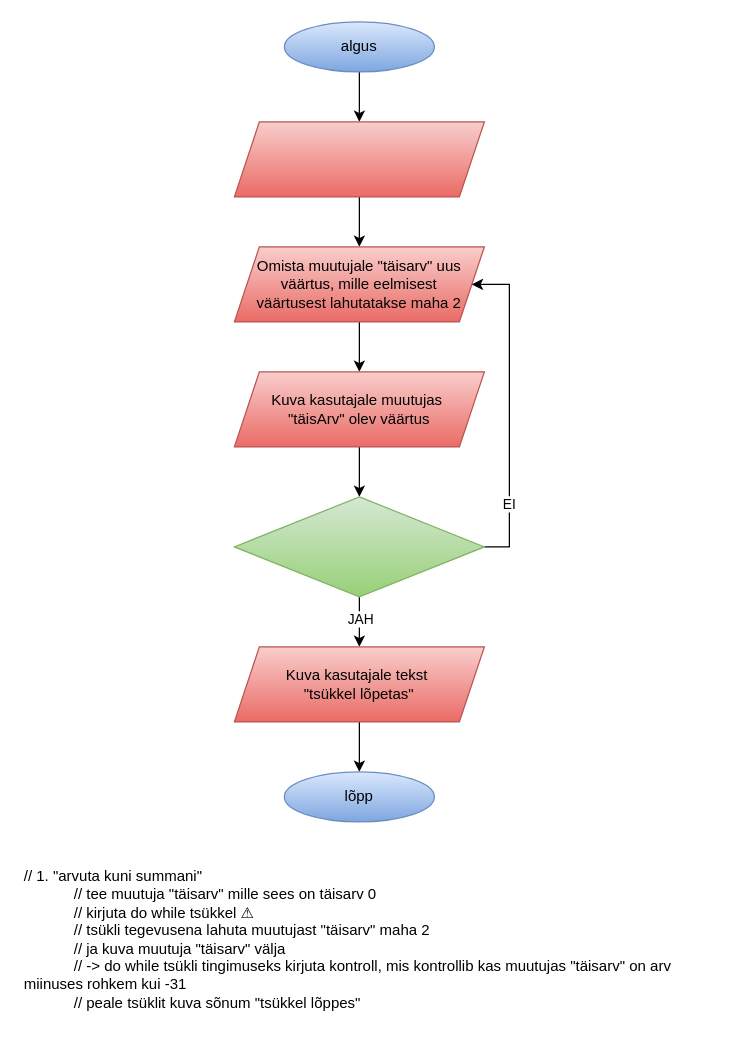
This 743x1056 diagram has some shape labels left out. The centre of each missing label's shape, as x and y in pixels:
Kas muutujas "täisArv" on väärtus väiksem kui -31: (358,546)
Tekita muutuja "täisArv" kuhu omistame vaikeväärtusena täisarvu 0: (358,159)
